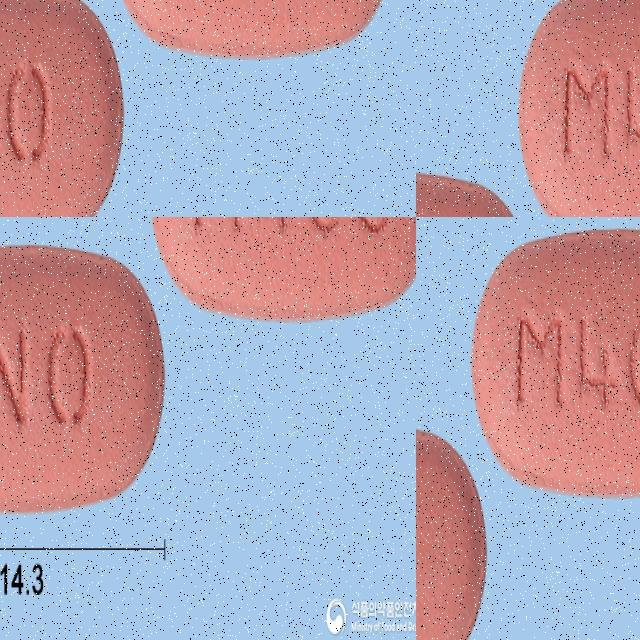Jecla: (0, 66, 187, 217)
Moveloxin: (471, 229, 640, 493), (416, 420, 486, 640)
Viramid Cap-200mg: (0, 361, 284, 602)
